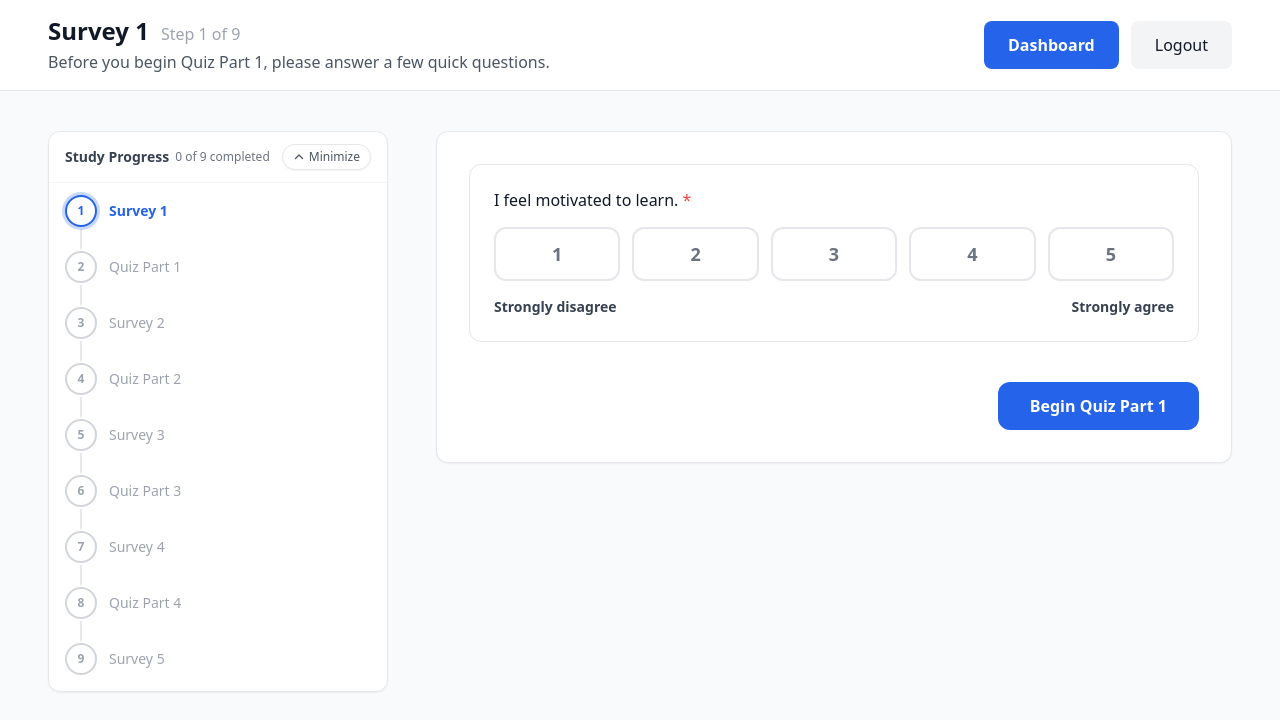
SurveyPage › shows a validation error when required questions are unanswered
The image size is (1280, 720).
Expected: the text "I feel motivated to learn." is shown, [494,189,678,211]
Click the button "Begin Quiz Part 1".
click(1098, 406)  # box [998,382,1199,430]
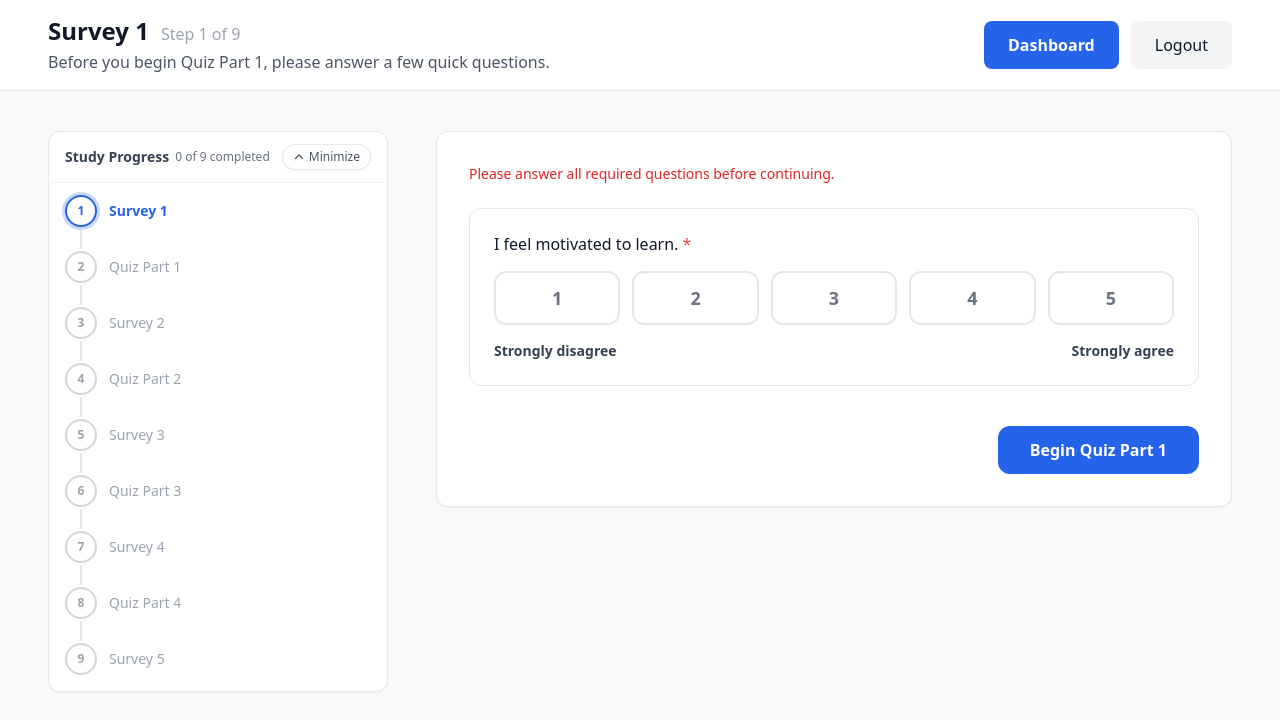
Result: the message reads "Please answer all required questions before continuing." at [469,164,834,183]
